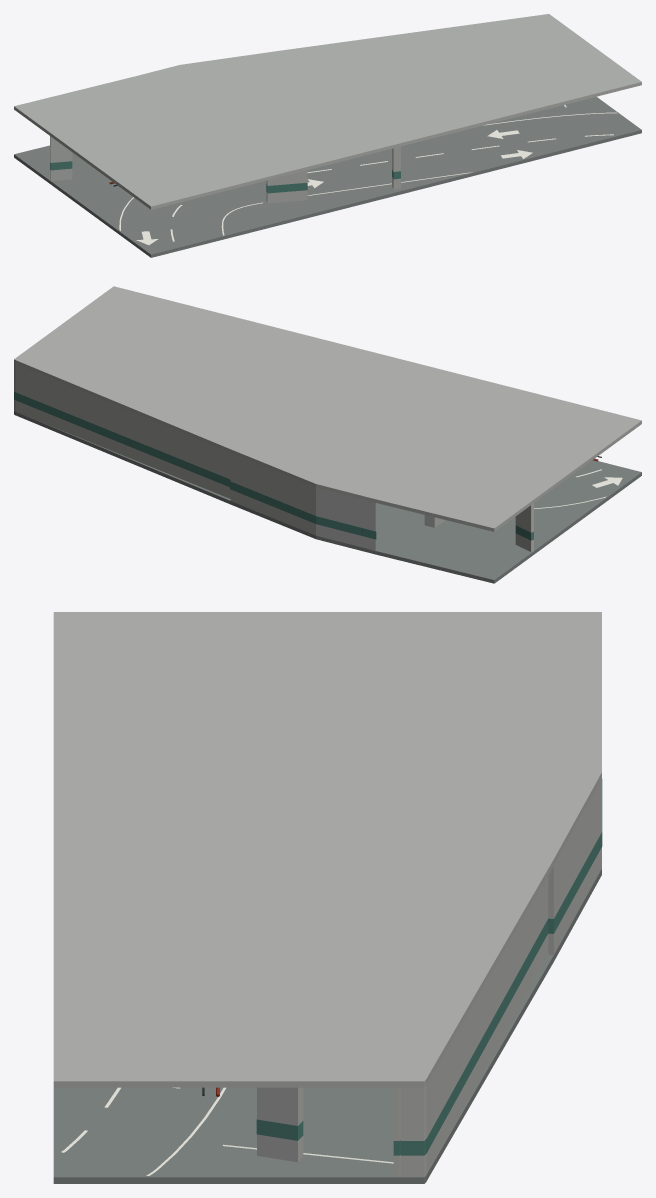
Rendered from B01-parking.glb.
3 renders of one model, top to bottom at view 1: azimuth 30°, elevation 25°; view 2: azimuth 150°, elevation 25°; view 3: azimuth 270°, elevation 25°, orthographic. The views are drawn at different scales.
Parts seen in each view (by area): view 1: Proposed | soffit above sector, SOURCE approximate sector | graded floor, SOURCE PDF clipped fill 25 part 0, SOURCE PDF clipped fill 42 part 4, PROPOSED TRAFFIC | source-two-way-aisle | arrow, PROPOSED TRAFFIC | source-two-way-aisle | edge; view 2: Proposed | soffit above sector, SOURCE approximate sector | graded floor, SOURCE PDF clipped fill 183 part 7, SOURCE PDF clipped fill 184 part 8, Proposed | identity paint 7, Proposed | identity paint 8, SOURCE PDF clipped fill 42 part 4, SOURCE PDF clipped fill 187 part 11; view 3: Proposed | soffit above sector, SOURCE approximate sector | graded floor, SOURCE PDF clipped fill 183 part 7, SOURCE PDF clipped fill 184 part 8, SOURCE PDF clipped fill 34 part 3, SOURCE PDF clipped fill 182 part 6, Proposed | identity paint 7, Proposed | identity paint 8.
Boxes of the visible parts, bbox=[...] form: Proposed | soffit above sector: bbox=[14, 14, 641, 209]; SOURCE approximate sector | graded floor: bbox=[14, 97, 641, 257]; SOURCE PDF clipped fill 25 part 0: bbox=[266, 170, 307, 203]; SOURCE PDF clipped fill 42 part 4: bbox=[50, 136, 72, 180]; PROPOSED TRAFFIC | source-two-way-aisle | arrow: bbox=[136, 130, 532, 245]; PROPOSED TRAFFIC | source-two-way-aisle | edge: bbox=[119, 112, 616, 235]; Proposed | soffit above sector: bbox=[14, 286, 641, 531]; SOURCE approximate sector | graded floor: bbox=[14, 411, 641, 583]; SOURCE PDF clipped fill 183 part 7: bbox=[15, 364, 230, 498]; SOURCE PDF clipped fill 184 part 8: bbox=[230, 453, 361, 547]; Proposed | identity paint 7: bbox=[15, 392, 230, 487]; Proposed | identity paint 8: bbox=[230, 481, 362, 535]; SOURCE PDF clipped fill 42 part 4: bbox=[515, 503, 533, 551]; SOURCE PDF clipped fill 187 part 11: bbox=[362, 499, 375, 550]; Proposed | soffit above sector: bbox=[53, 612, 601, 1087]; SOURCE approximate sector | graded floor: bbox=[53, 869, 601, 1183]; SOURCE PDF clipped fill 183 part 7: bbox=[426, 876, 548, 1174]; SOURCE PDF clipped fill 184 part 8: bbox=[548, 779, 601, 954]; SOURCE PDF clipped fill 34 part 3: bbox=[257, 1087, 303, 1162]; SOURCE PDF clipped fill 182 part 6: bbox=[400, 1086, 426, 1177]; Proposed | identity paint 7: bbox=[426, 919, 548, 1153]; Proposed | identity paint 8: bbox=[548, 791, 602, 933].
Size of the model in its own units: 31.01 by 3.4 by 15.01.
